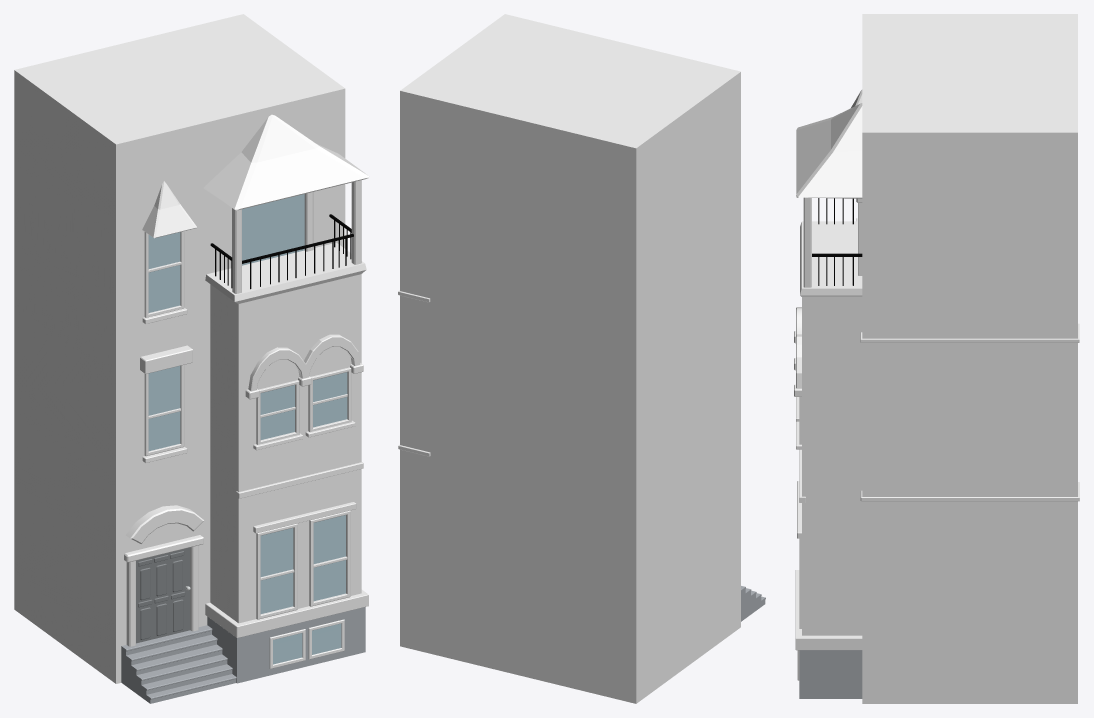
File: BolunHouseUVd001.fbx
3 renders of one model, left to right at view 1: azimuth 30°, elevation 25°; view 2: azimuth 150°, elevation 25°; view 3: azimuth 270°, elevation 25°, orthographic. The views are drawn at different scales.
Visible parts, largest first — view 1: polySurface198; view 2: polySurface198; view 3: polySurface198.
Boxes of the visible parts, x1,y1,x2,y2 form: polySurface198: (14,14,369,703); polySurface198: (398,14,765,703); polySurface198: (794,14,1079,703).
Bounding box in the file's own units: 5.03 × 11.24 × 5.1.
1 material, 1 textured.
